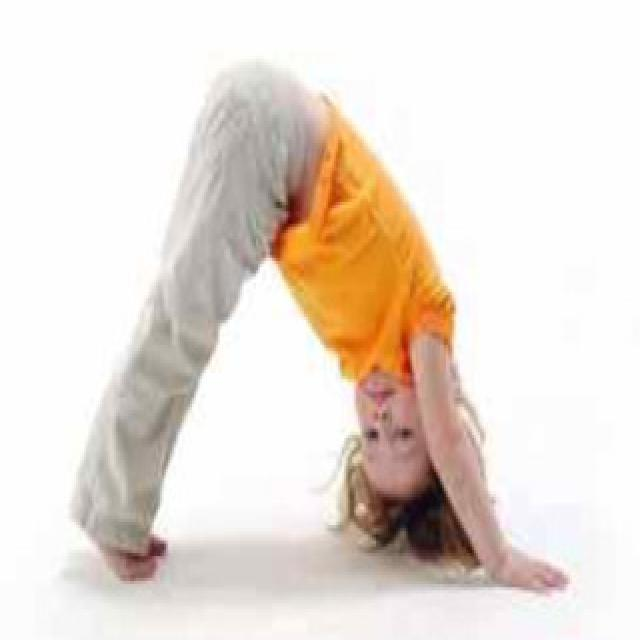yoga-pose downward: (80, 42, 570, 600)
